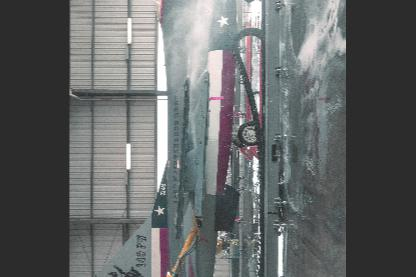F14: (75, 0, 262, 275)
